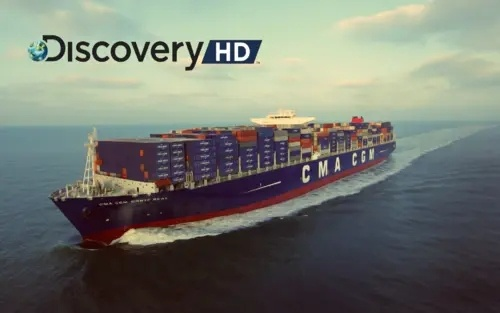Cargoship: (44, 108, 398, 241)
